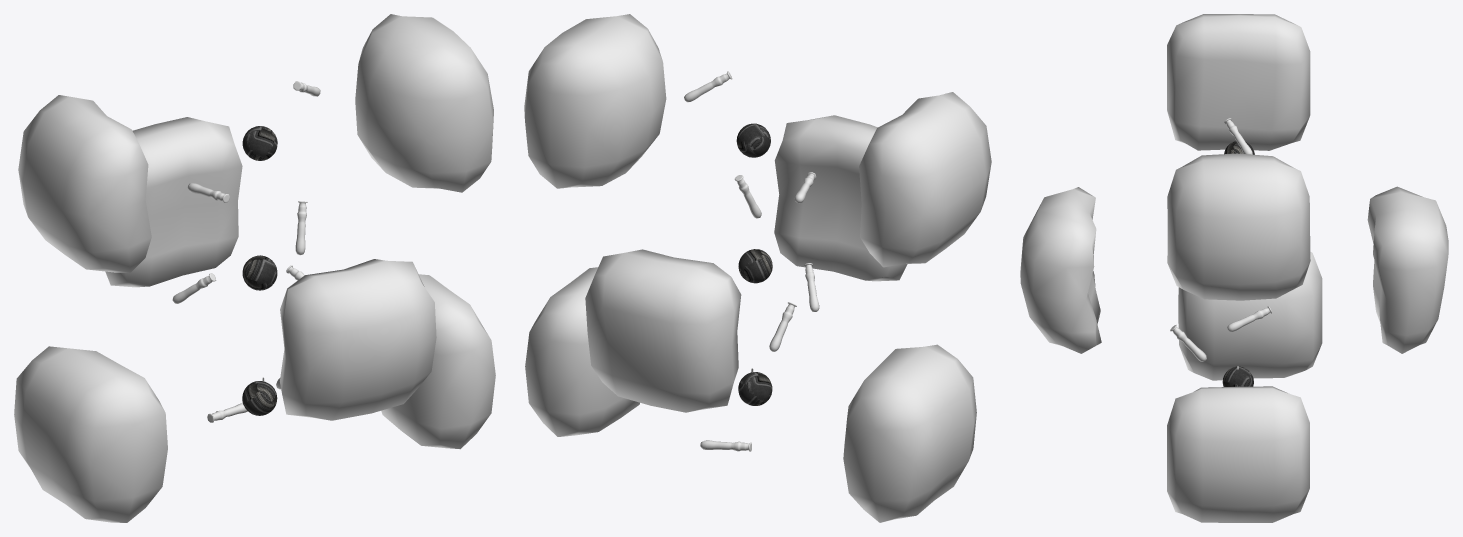
File: orbit puzzle.fbx
3 renders of one model, left to right at view 1: azimuth 30°, elevation 25°; view 2: azimuth 150°, elevation 25°; view 3: azimuth 270°, elevation 25°, orthographic. The views are drawn at different scales.
Visible parts, largest first — view 1: Debris 3, Debris 1, Debris 5, Debris 6, Debris 4, Debris 2, Middle Grav Sphere, Top Grav Sphere, Grav Sphere 1; view 2: Debris 4, Debris 5, Debris 1, Debris 6, Debris 3, Debris 2, Middle Grav Sphere, Top Grav Sphere, Grav Sphere 1; view 3: Debris 5, Debris 2, Debris 6, Debris 1, Debris 4, Debris 3, Grav Sphere 1.
Part boxes in pixels (x1,y1,x2,y2): Debris 3: [279, 259, 436, 420]; Debris 1: [14, 346, 167, 522]; Debris 5: [355, 14, 493, 192]; Debris 6: [18, 95, 151, 272]; Debris 4: [105, 117, 242, 287]; Debris 2: [381, 274, 495, 449]; Middle Grav Sphere: [242, 255, 277, 290]; Top Grav Sphere: [242, 126, 277, 160]; Grav Sphere 1: [242, 381, 277, 415]; Debris 4: [585, 249, 741, 412]; Debris 5: [524, 14, 666, 188]; Debris 1: [843, 344, 976, 522]; Debris 6: [859, 92, 991, 267]; Debris 3: [774, 115, 907, 281]; Debris 2: [525, 267, 639, 436]; Middle Grav Sphere: [738, 249, 772, 283]; Top Grav Sphere: [736, 123, 770, 157]; Grav Sphere 1: [738, 372, 772, 405]; Debris 5: [1167, 153, 1310, 300]; Debris 2: [1167, 386, 1309, 522]; Debris 6: [1167, 14, 1310, 150]; Debris 1: [1178, 252, 1322, 380]; Debris 4: [1367, 186, 1448, 353]; Debris 3: [1020, 187, 1101, 353]; Grav Sphere 1: [1222, 366, 1253, 386].
Bounding box in the file's own units: 31288 × 27568 × 29924.
